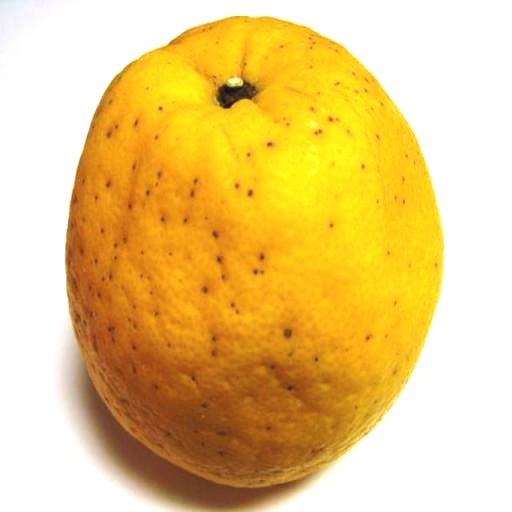fruit: (66, 17, 443, 486)
